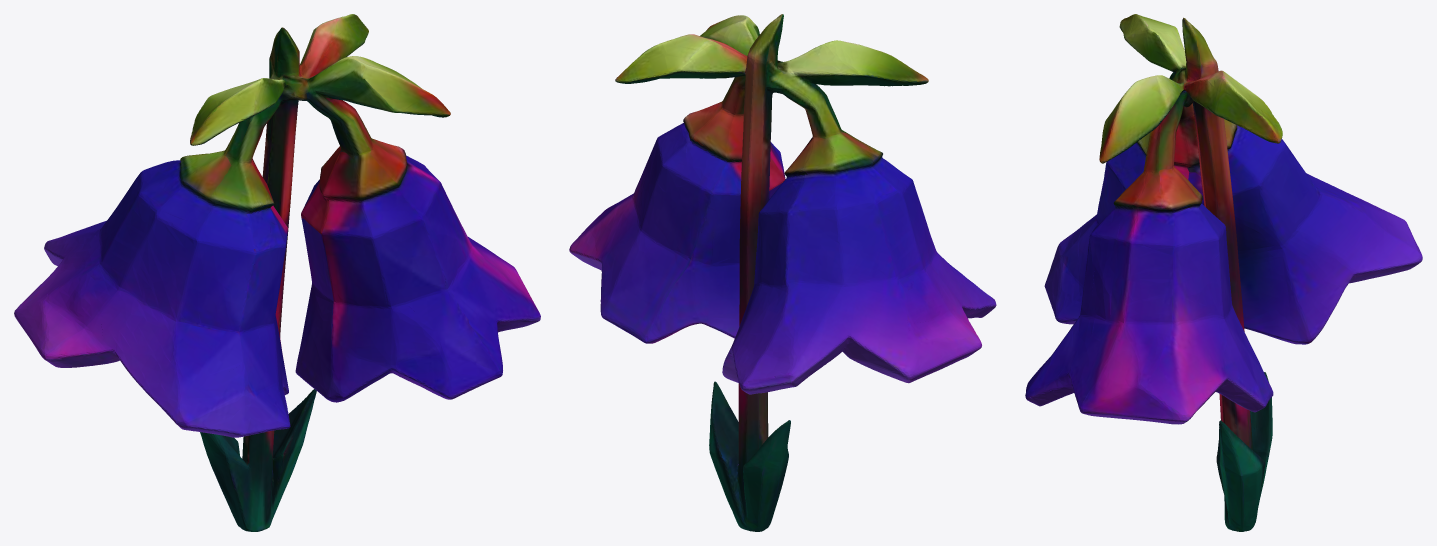
The model's file is FOXGLOVE.glb.
3 views of the same model, side by side, from view 1: azimuth 30°, elevation 25°; view 2: azimuth 150°, elevation 25°; view 3: azimuth 270°, elevation 25° (orthographic). The views are drawn at different scales.
Visible parts, largest first — view 1: FOXGLOVE; view 2: FOXGLOVE; view 3: FOXGLOVE.
Boxes of the visible parts, box(x1,y1,x2,y2) form: FOXGLOVE: box(14, 14, 540, 531); FOXGLOVE: box(569, 14, 996, 531); FOXGLOVE: box(1025, 14, 1422, 531).
Size of the model in its own units: 1.8 by 1.99 by 1.42.
1 material, 1 textured.
